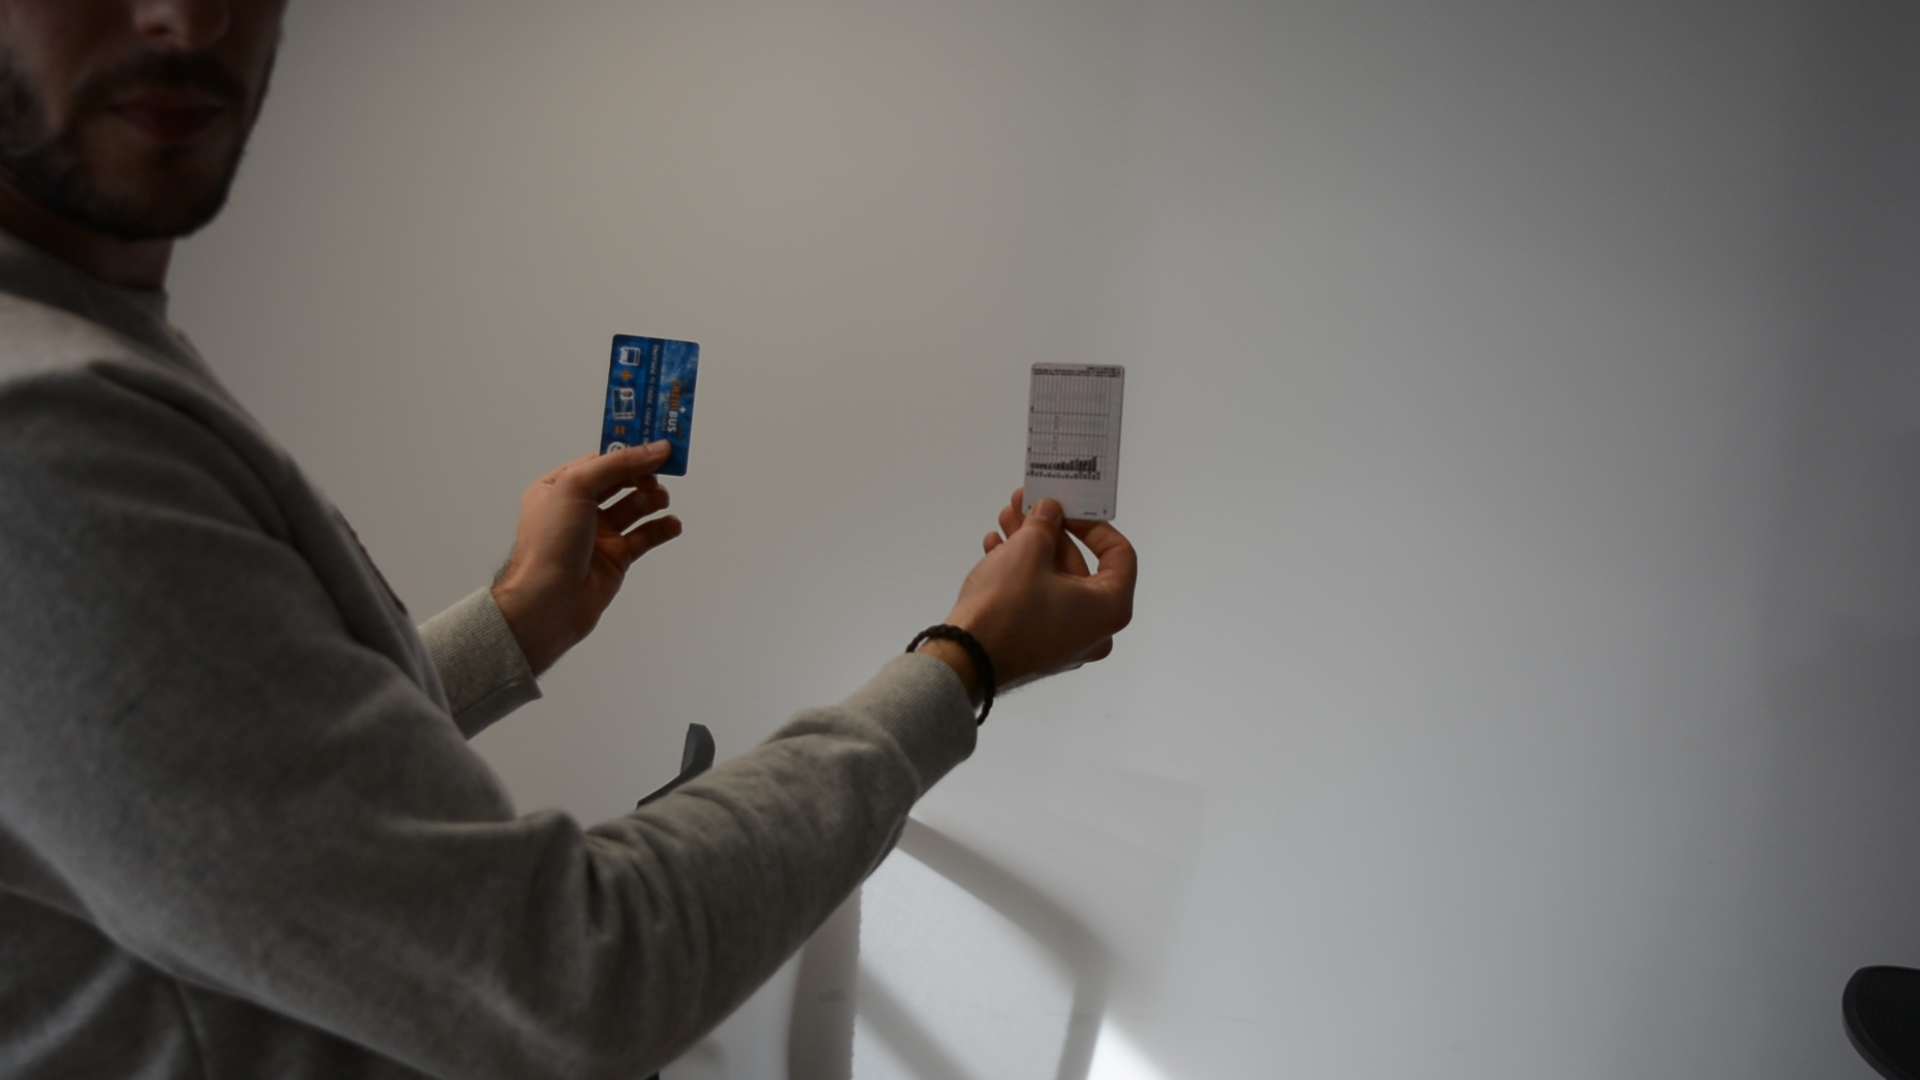tarjeta: (1021, 361, 1126, 524), (599, 334, 702, 477)
